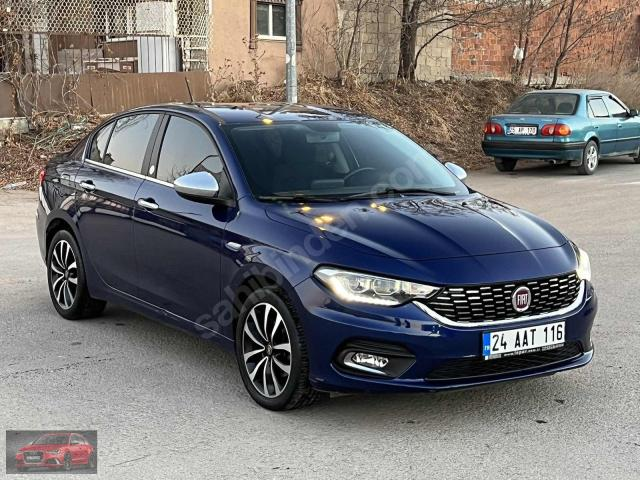plaka: (482, 321, 565, 360)
